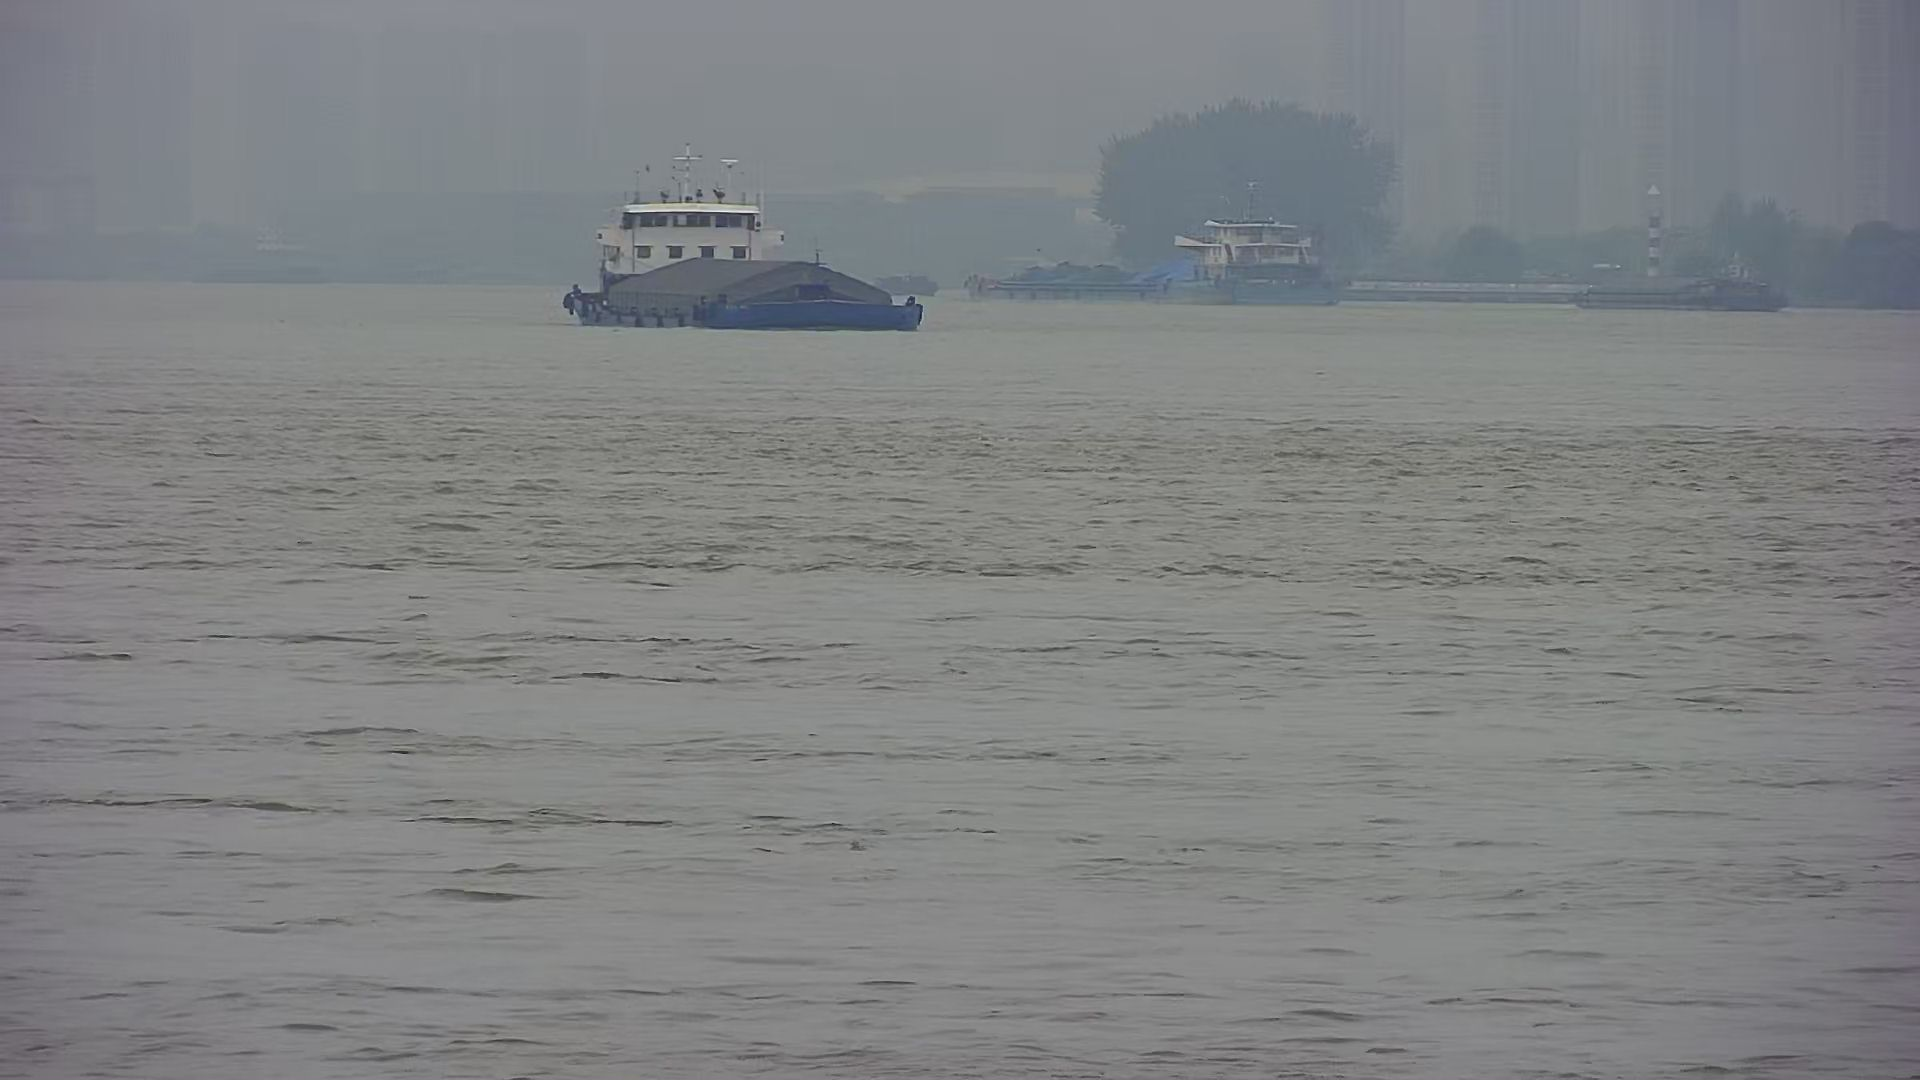ship: (554, 150, 944, 345), (956, 171, 1365, 309), (1552, 243, 1797, 322)
